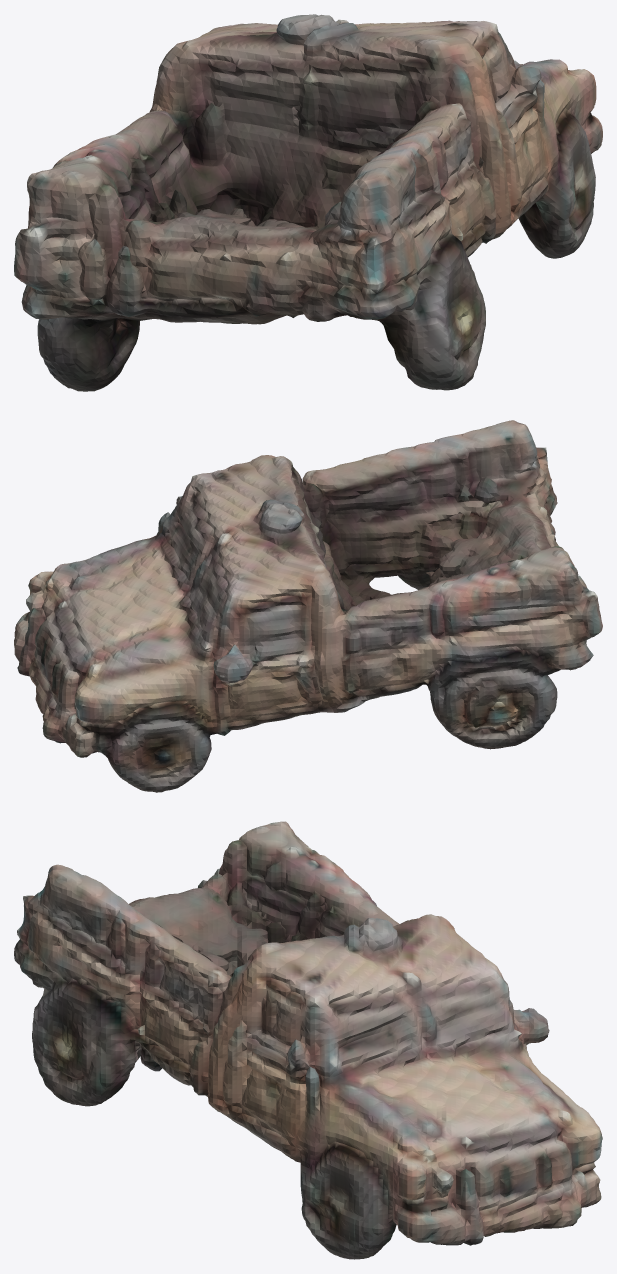
File: raider-truck.glb
3 views of the same model, one above another, from view 1: azimuth 30°, elevation 25°; view 2: azimuth 150°, elevation 25°; view 3: azimuth 270°, elevation 25° (orthographic). The views are drawn at different scales.
Visible parts, largest first — view 1: world; view 2: world; view 3: world.
Part boxes in pixels (x1,y1,x2,y2): world: [14, 14, 602, 391]; world: [14, 420, 602, 792]; world: [14, 821, 602, 1259].
Size of the model in its own units: 0.9203 by 0.4283 by 0.8265.
